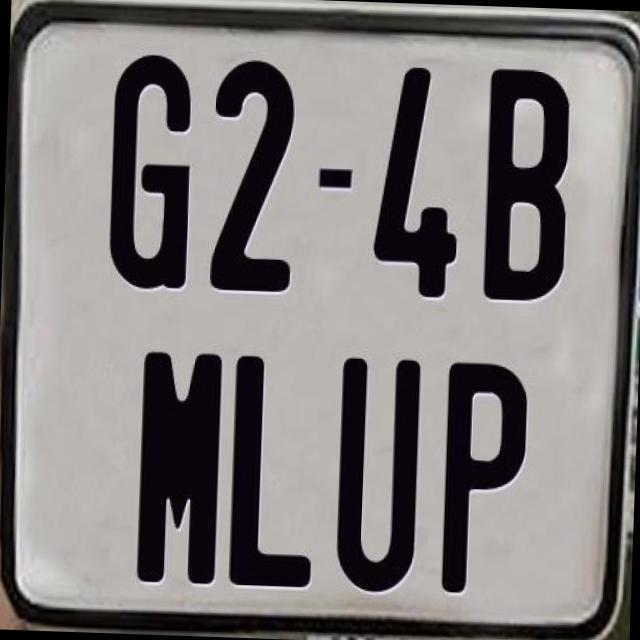2: (207, 55, 300, 294)
4: (369, 61, 461, 300)
B: (481, 63, 572, 301)
G: (106, 53, 198, 290)
L: (226, 350, 316, 586)
M: (132, 351, 226, 588)
P: (438, 359, 524, 602)
U: (334, 354, 422, 597)
